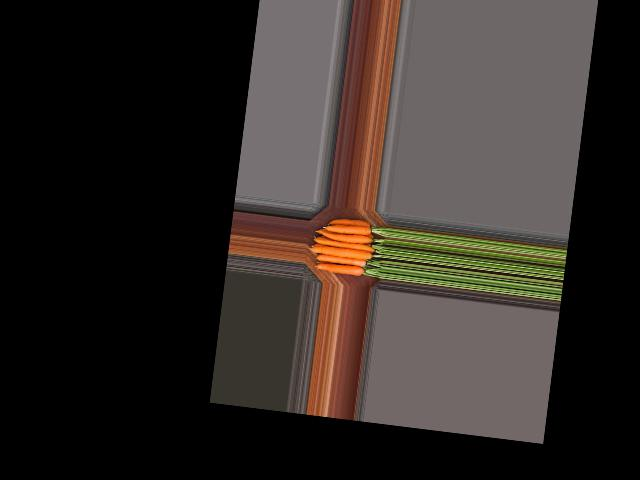carrot: (322, 212, 372, 230)
